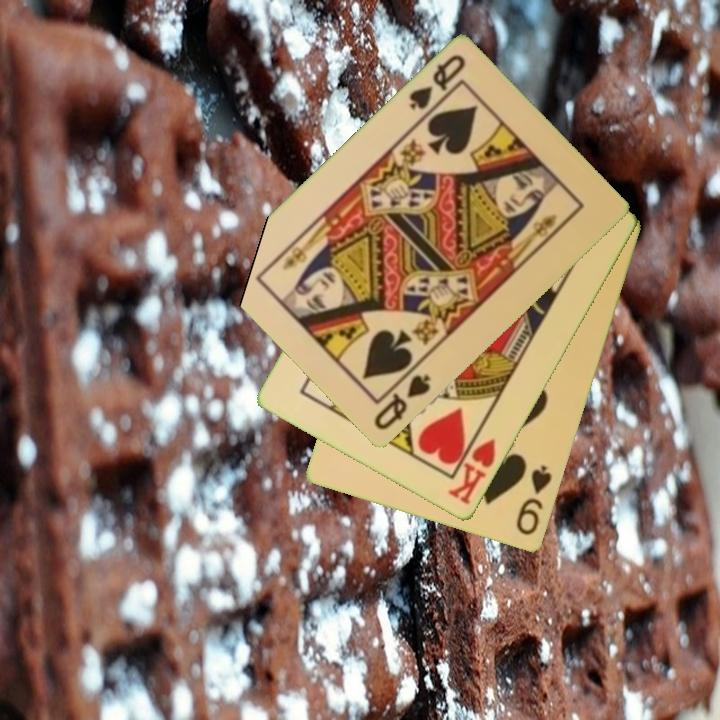9s: (513, 462, 555, 539)
Kh: (444, 425, 499, 508)
Qs: (405, 52, 469, 122), (370, 371, 434, 434)
